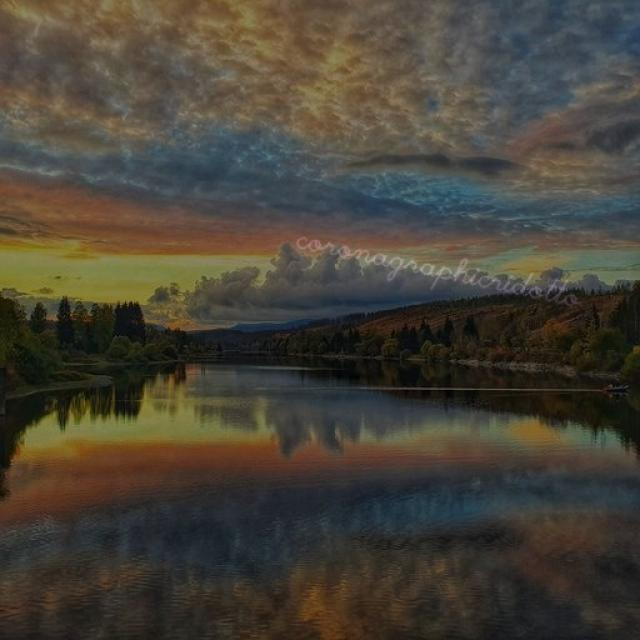watermark: (287, 220, 604, 313)
